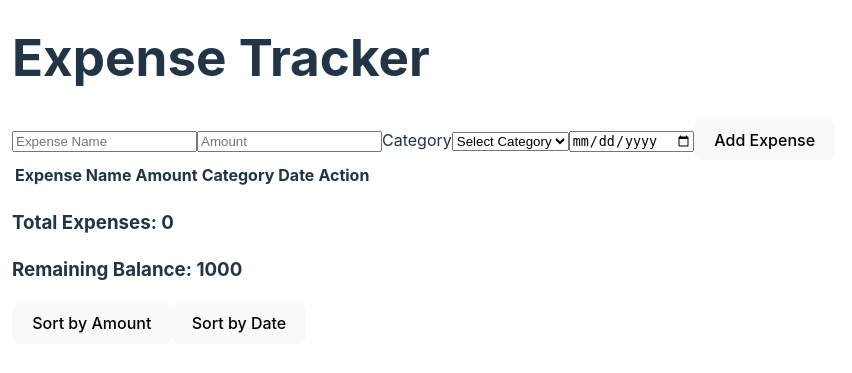
should delete an expense from the list
The width and height of the screenshot is (852, 373).
Add an expense with all required fields
Type "Lunch" into the field with placeholder "Expense Name" at [104, 141], box [12,131,197,152]
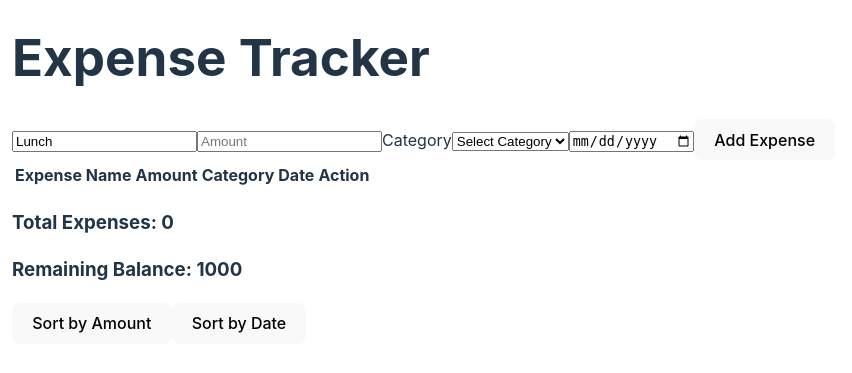
Type "20" into the number field with placeholder "Amount" at [290, 141], box [197,131,382,152]
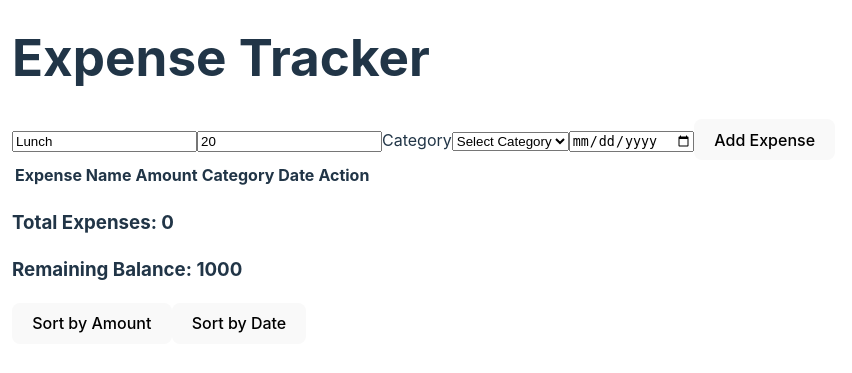
Select "Food" in the dropdown at [510, 141], box [452,132,569,151]
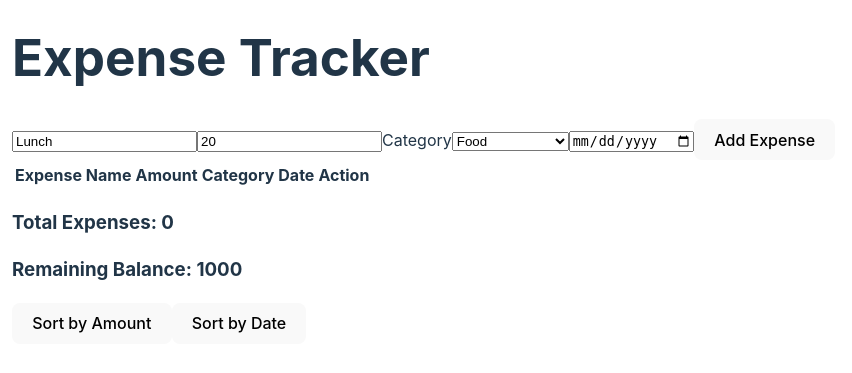
Type "2025-01-19" into the date field with placeholder "Date" at [631, 141], box [569,130,694,152]
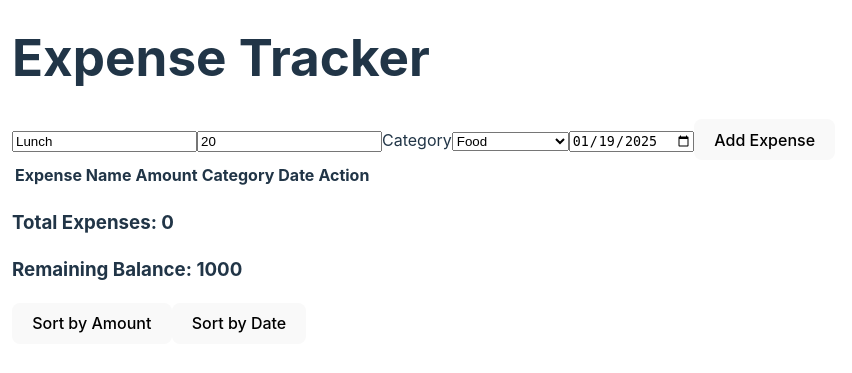
Click the button "Add Expense" at [765, 140], box [694,119,835,160]
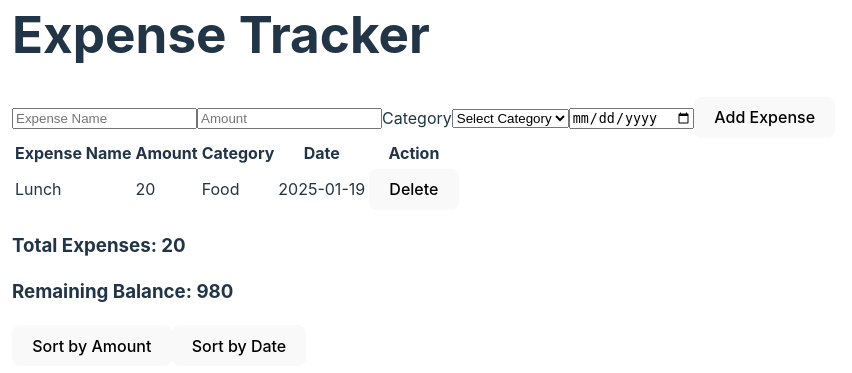
expect the text "Lunch" is shown: met, box [14,168,132,211]
Click the button "Delete" at [414, 189], box [369,169,459,210]
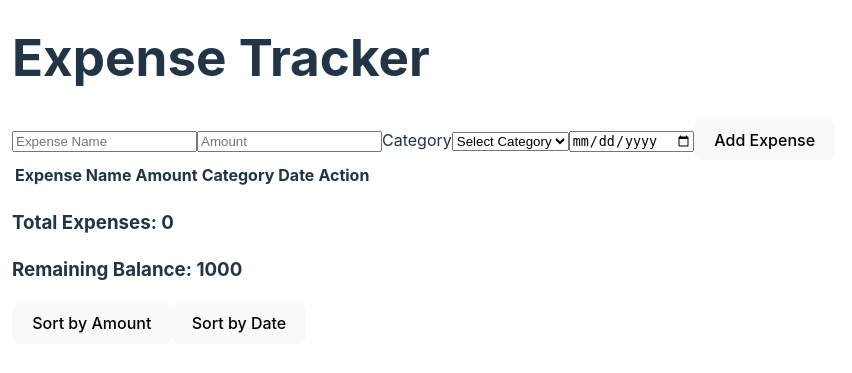
expect the text "Lunch" is gone: met
